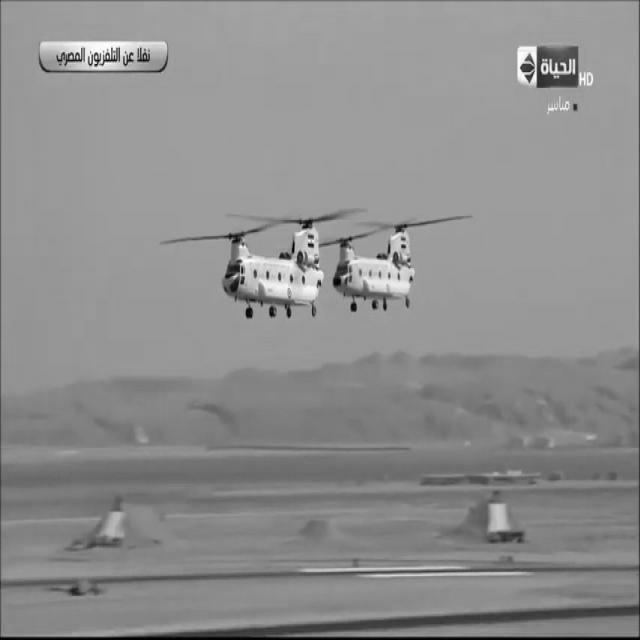helikopter: (194, 205, 324, 335), (336, 209, 440, 327)
